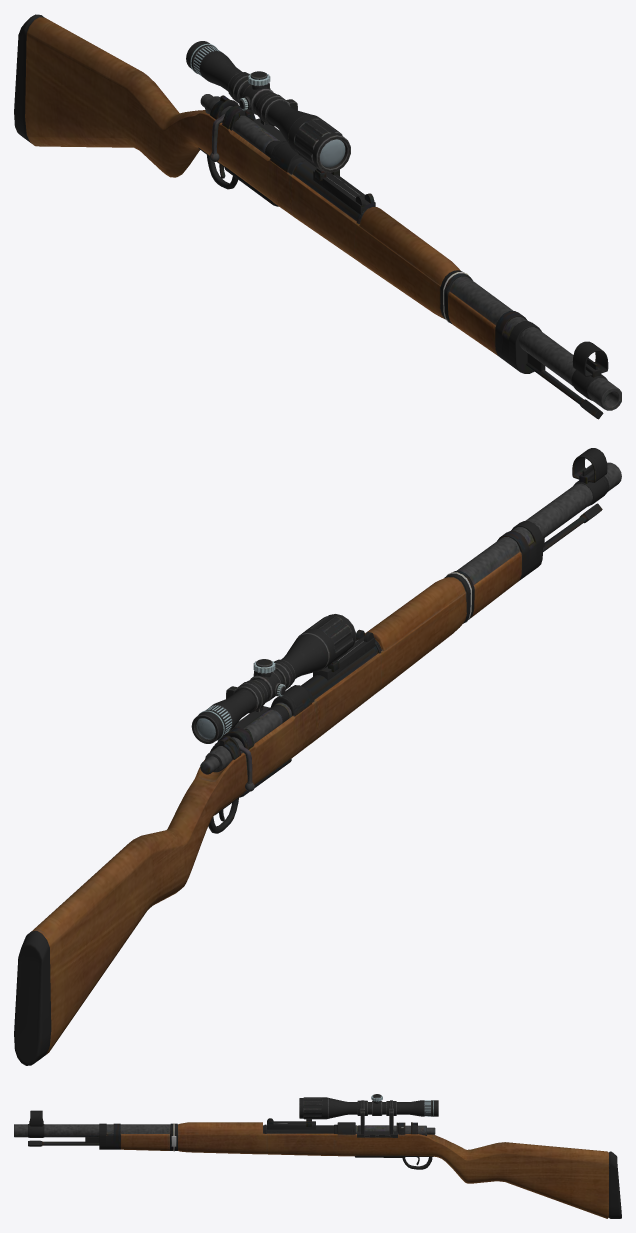
The model's file is kar98k.glb.
The picture shows the model from 3 angles, top to bottom: view 1: azimuth 30°, elevation 25°; view 2: azimuth 150°, elevation 25°; view 3: azimuth 270°, elevation 25°; orthographic projection. The views are drawn at different scales.
Visible parts, largest first — view 1: weapon; view 2: weapon; view 3: weapon.
Boxes of the visible parts, box(x1,y1,x2,y2) form: weapon: box(14, 14, 621, 419); weapon: box(14, 448, 621, 1065); weapon: box(14, 1094, 621, 1218).
Size of the model in its own units: 0.0475 by 0.2454 by 1.11.
Materials: 2 (2 with a texture image).
